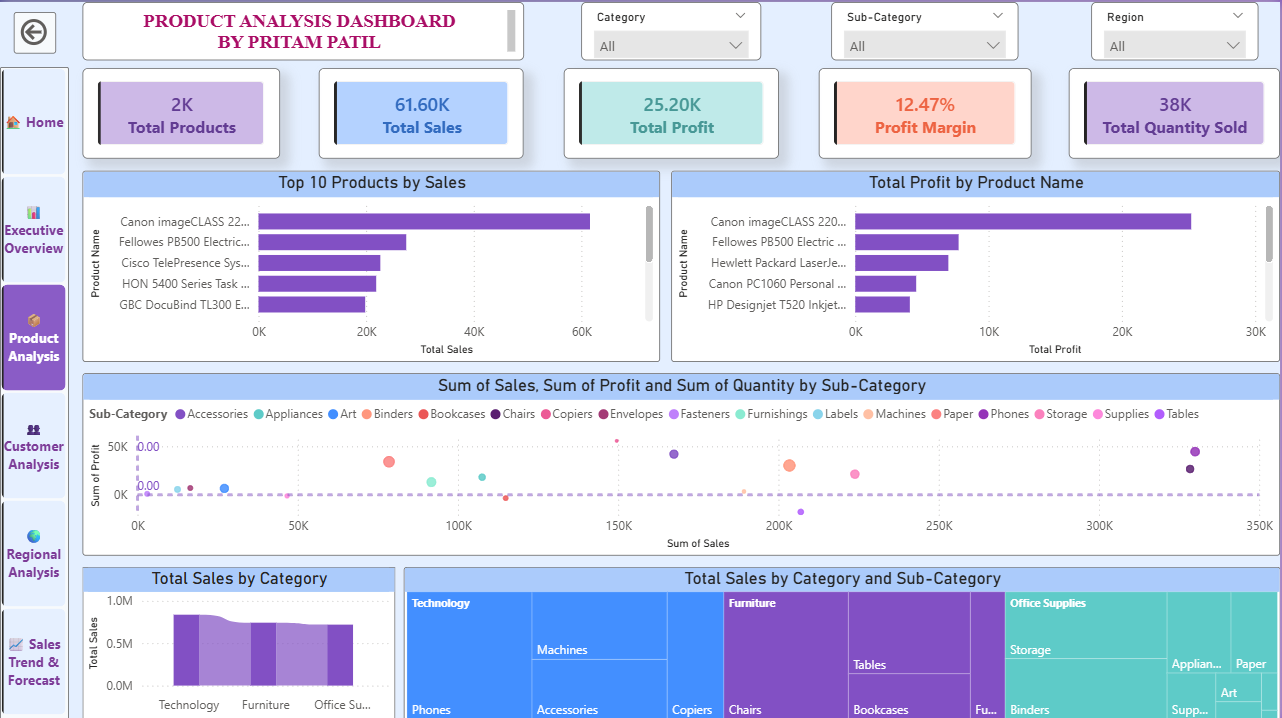

What the dashboard file says about the page in this screenshot:
{"tool":"powerbi","page":{"name":"📦 Product Analysis","canvas":[1280,720],"ordinal":3},"visuals":[{"type":"textbox","box":[82.5,0,441.2,58.8],"z":0},{"type":"slicer","fields":{"Values":["Sample-superstore-data.Sub-Category"]},"box":[831.2,0,187.5,58.8],"z":1000},{"type":"slicer","fields":{"Values":["Sample-superstore-data.Region"]},"box":[1091.2,0,167.5,58.8],"z":2000},{"type":"slicer","fields":{"Values":["Sample-superstore-data.Category"]},"box":[581.2,0,180,58.8],"z":3000},{"type":"cardVisual","fields":{"Data":["Sample-superstore-data.Total Products"]},"box":[82.5,66.2,197.5,90],"z":4000},{"type":"cardVisual","fields":{"Data":["Sample-superstore-data.Total Quantity Sold"]},"box":[1068.8,66.2,211.2,90],"z":5000},{"type":"cardVisual","fields":{"Data":["Sample-superstore-data.Total Sales"]},"box":[318.8,66.2,205,90],"z":6000},{"type":"cardVisual","fields":{"Data":["Sample-superstore-data.Total Profit"]},"box":[563.8,66.2,215,90],"z":7000},{"type":"cardVisual","fields":{"Data":["Sample-superstore-data.Profit Margin"]},"box":[818.8,66.2,212.5,90],"z":8000},{"type":"barChart","title":"Top 10 Products by Sales","fields":{"Category":["Sample-superstore-data.Product Name"],"Y":["Sample-superstore-data.Total Sales"]},"box":[82.5,168.8,577.5,191.2],"z":9000},{"type":"clusteredBarChart","fields":{"Category":["Sample-superstore-data.Product Name"],"Y":["Sample-superstore-data.Total Profit"]},"box":[671.2,168.8,608.8,191.2],"z":10000},{"type":"scatterChart","fields":{"X":["Sum(Sample-superstore-data.Sales)"],"Y":["Sum(Sample-superstore-data.Profit)"],"Size":["Sum(Sample-superstore-data.Quantity)"],"Series":["Sample-superstore-data.Sub-Category"]},"box":[82.5,371.2,1197.5,182.5],"z":11000},{"type":"ribbonChart","fields":{"Category":["Sample-superstore-data.Category"],"Y":["Sample-superstore-data.Total Sales"]},"box":[82.5,565,312.5,155],"z":12000},{"type":"treemap","fields":{"Group":["Sample-superstore-data.Category"],"Details":["Sample-superstore-data.Sub-Category"],"Values":["Sample-superstore-data.Total Sales"]},"box":[403.5,565.1,876.7,154.7],"z":13000},{"type":"pageNavigator","box":[0,65,68.8,655],"z":14000},{"type":"actionButton","box":[13.8,10,42.5,41.2],"z":15000}]}

Visuals, with their boxes on the page's 1280x720 design canvas (x1, y1, x2, y2). These are canvas units, not pixel positions in the 1282x718 screenshot, which may show the page scaled, cropped or inside an application window:
textbox: select_region(82, 0, 524, 59)
slicer - Sample-superstore-data.Sub-Category: select_region(831, 0, 1019, 59)
slicer - Sample-superstore-data.Region: select_region(1091, 0, 1259, 59)
slicer - Sample-superstore-data.Category: select_region(581, 0, 761, 59)
cardVisual - Sample-superstore-data.Total Products: select_region(82, 66, 280, 156)
cardVisual - Sample-superstore-data.Total Quantity Sold: select_region(1069, 66, 1280, 156)
cardVisual - Sample-superstore-data.Total Sales: select_region(319, 66, 524, 156)
cardVisual - Sample-superstore-data.Total Profit: select_region(564, 66, 779, 156)
cardVisual - Sample-superstore-data.Profit Margin: select_region(819, 66, 1031, 156)
"Top 10 Products by Sales" barChart: select_region(82, 169, 660, 360)
clusteredBarChart - Sample-superstore-data.Product Name x Sample-superstore-data.Total Profit: select_region(671, 169, 1280, 360)
scatterChart - Sum(Sample-superstore-data.Sales) x Sum(Sample-superstore-data.Profit): select_region(82, 371, 1280, 554)
ribbonChart - Sample-superstore-data.Category x Sample-superstore-data.Total Sales: select_region(82, 565, 395, 720)
treemap - Sample-superstore-data.Category x Sample-superstore-data.Sub-Category: select_region(404, 565, 1280, 720)
pageNavigator: select_region(0, 65, 69, 720)
actionButton: select_region(14, 10, 56, 51)
